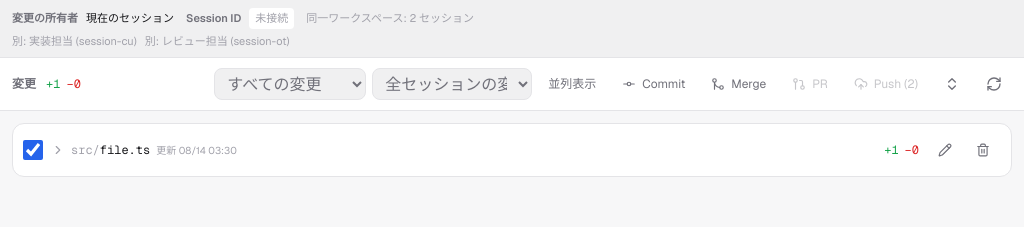
Test case: DiffPane directory race › reports the default editor when VSCode is unavailable
The width and height of the screenshot is (1024, 227).
Click the button named "src/file.ts をエディタで開く": (945, 150) [927, 132, 963, 168]
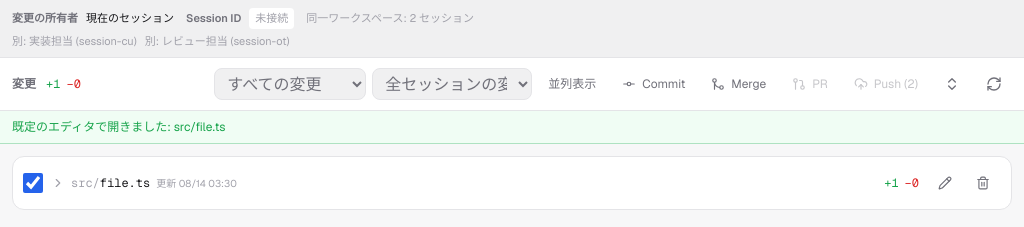
Expected: the text "既定のエディタで開きました: src/file.ts" is shown, [12, 119, 226, 135]
